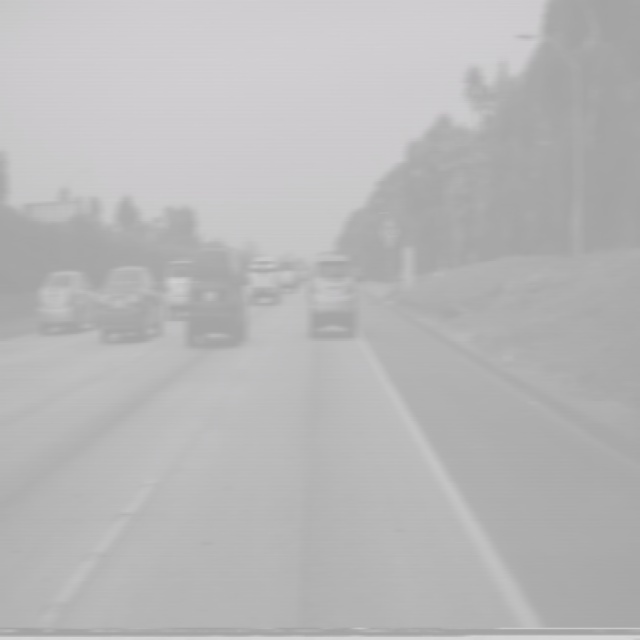addedLane: (380, 212, 398, 248)
